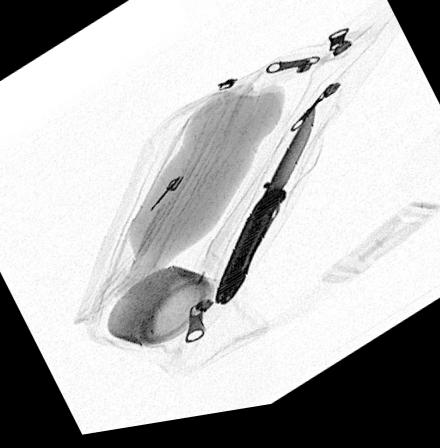Knife: (212, 113, 315, 312)
